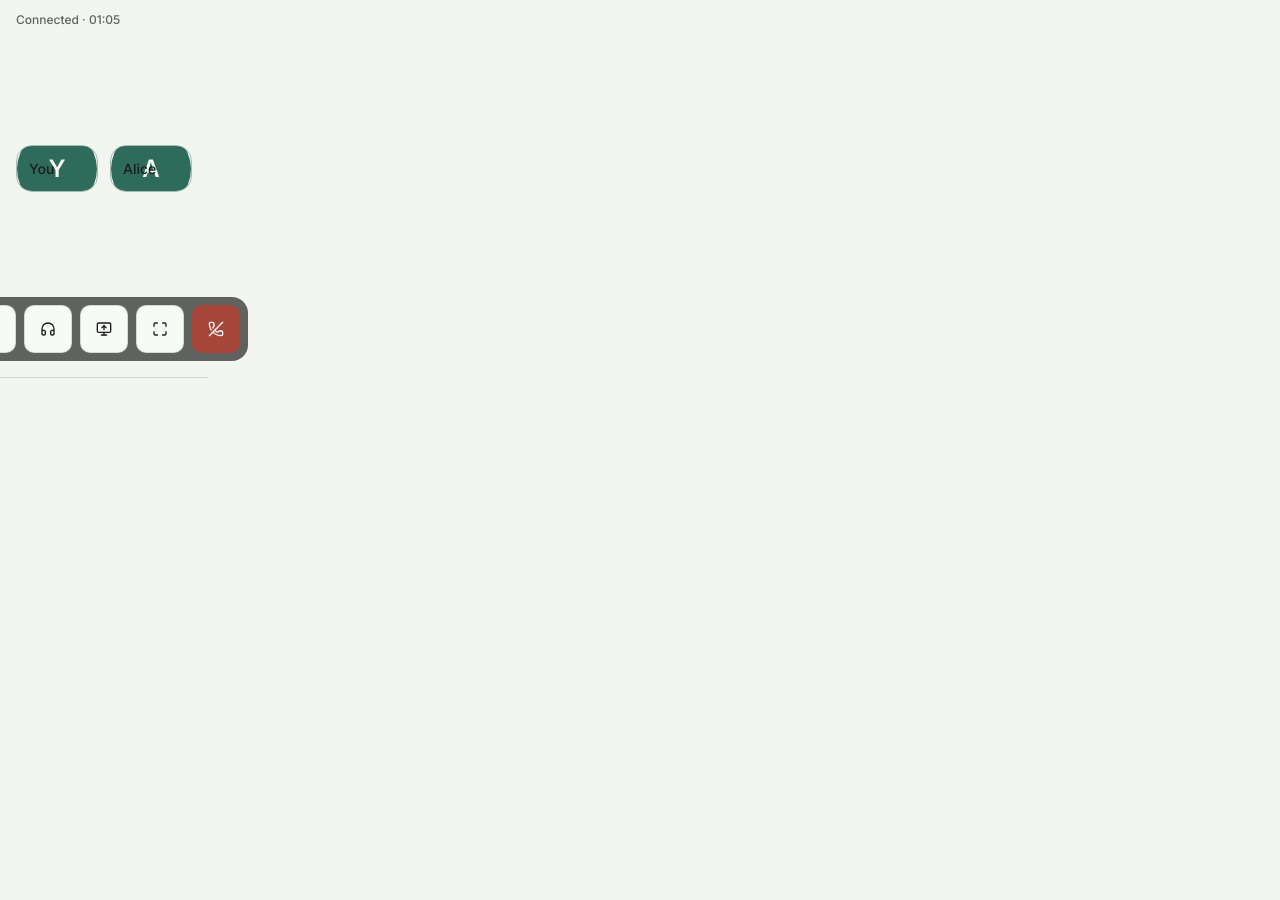
Test: ActiveCallDock › uses only the standard Tauri fullscreen API for entry and exit
The width and height of the screenshot is (1280, 900).
Click the button named "Enter fullscreen" at (160, 329), box [136,305,184,353]
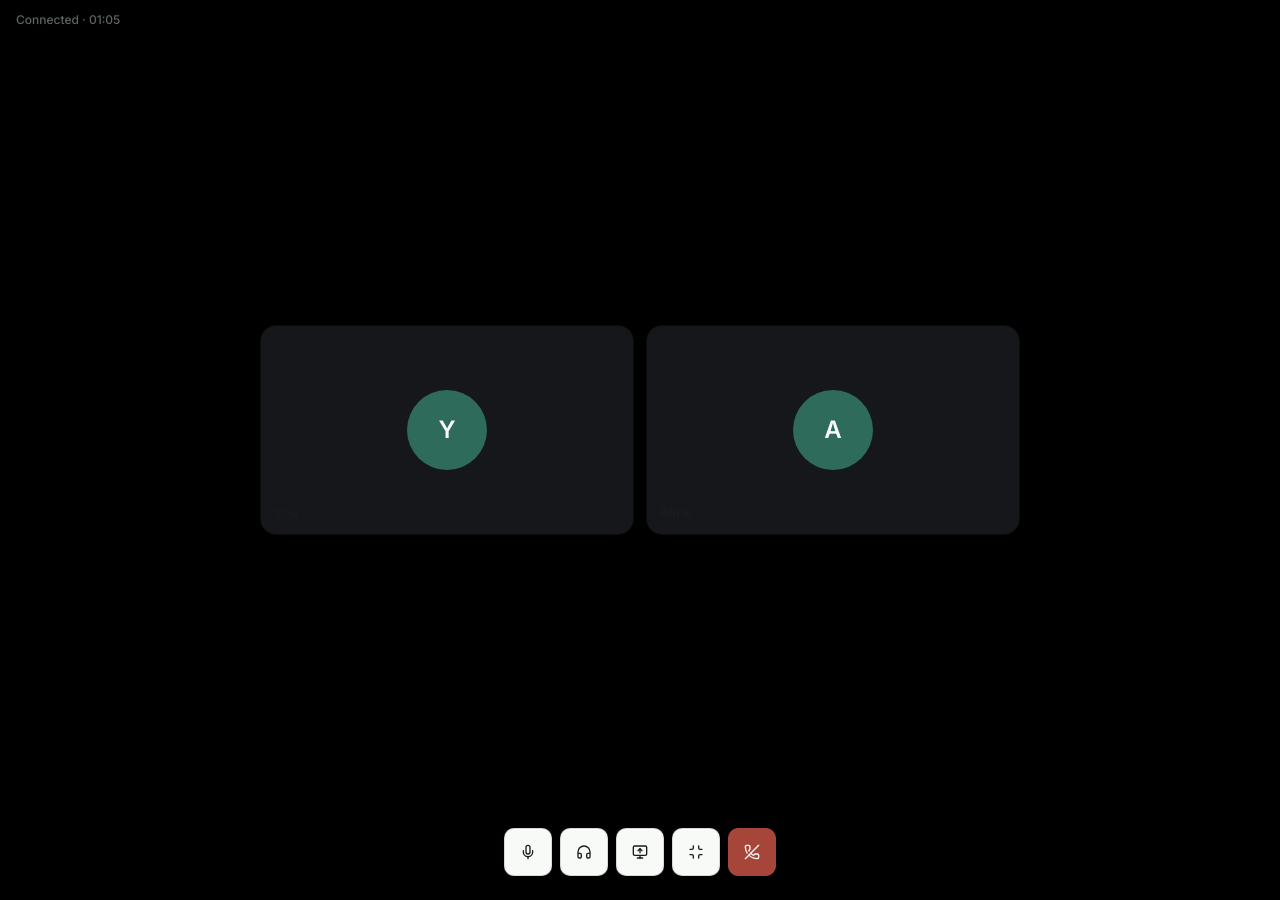
Check: the button named "Exit fullscreen" is shown
Click the button named "Exit fullscreen" at (696, 852), box [672,828,720,876]
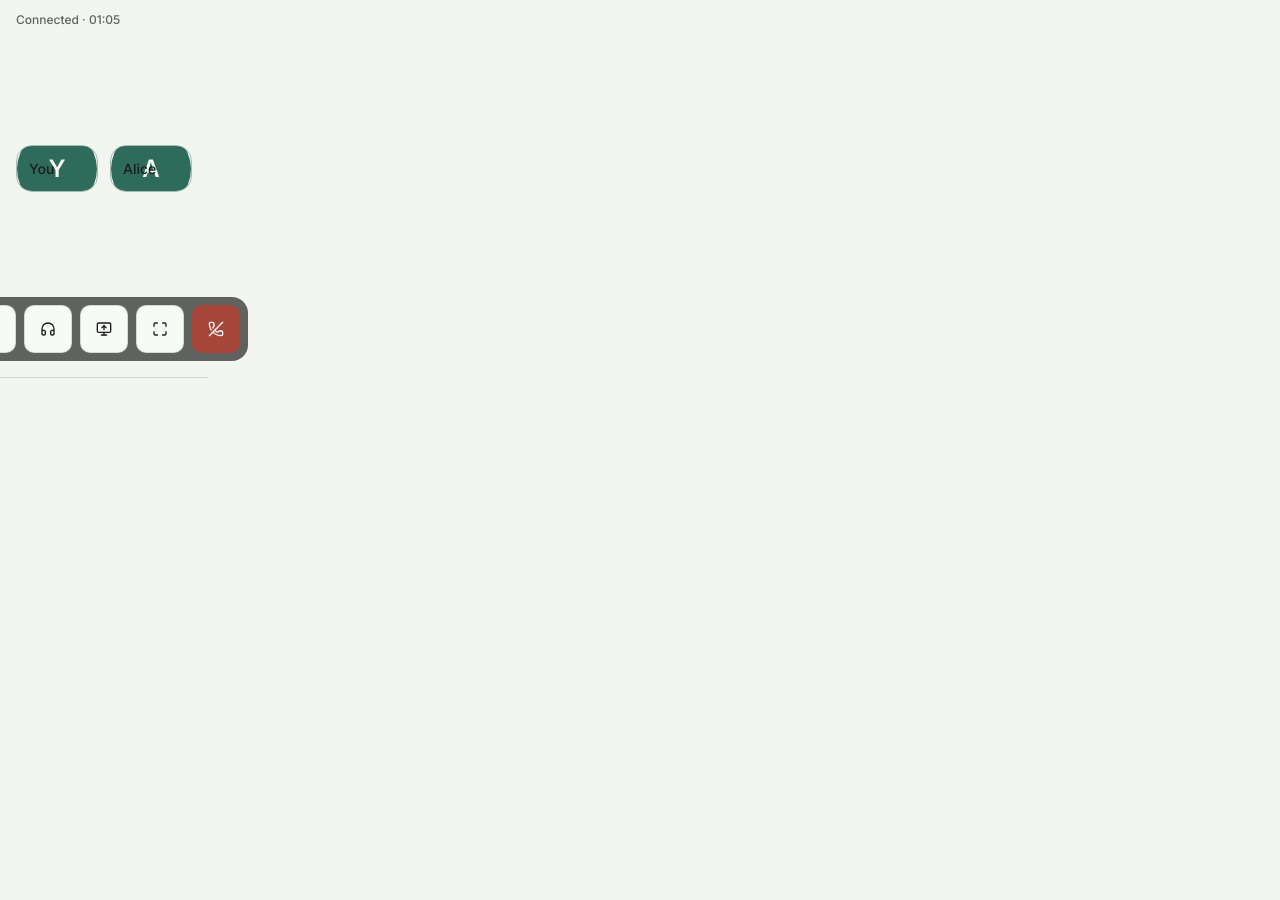
Check: the button named "Enter fullscreen" is shown, box [136,305,184,353]
